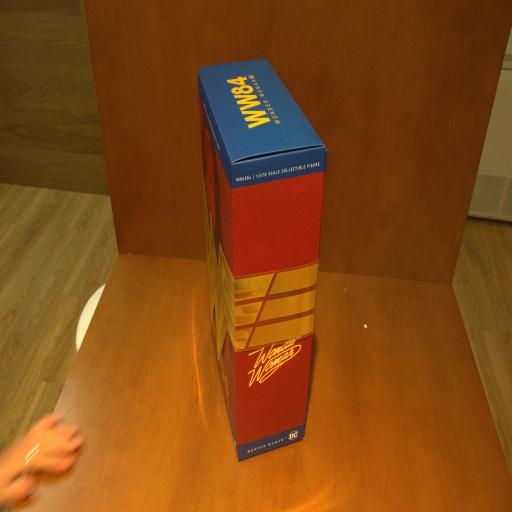WonderWoman: (198, 58, 327, 465)
